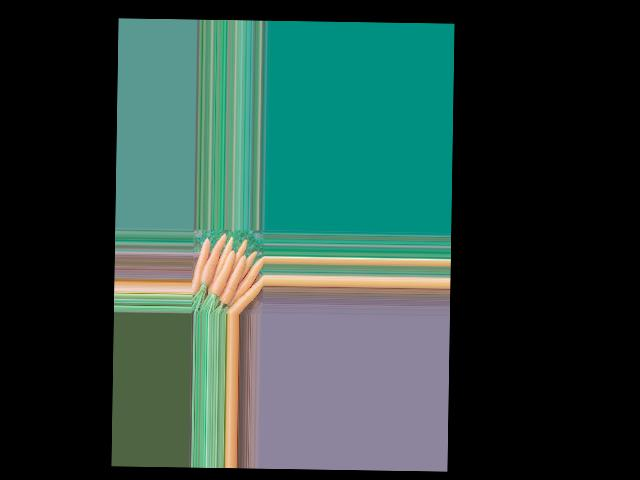carrot: (223, 268, 264, 313)
